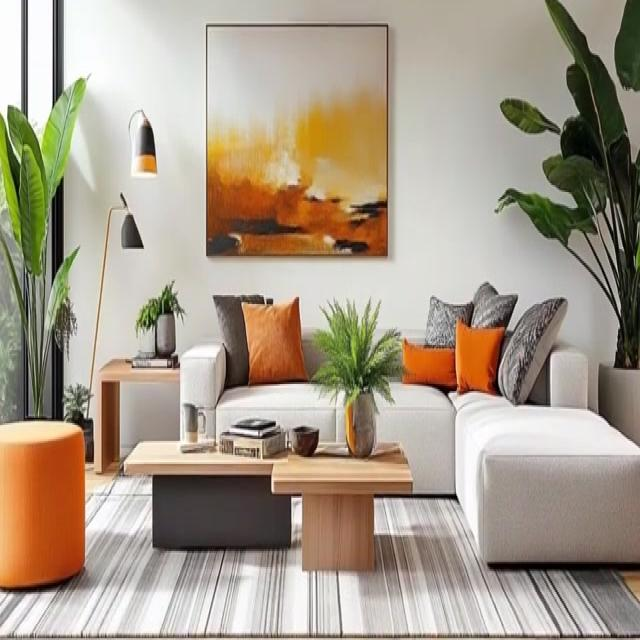obstacle: (179, 325, 639, 567), (128, 435, 295, 551), (270, 441, 413, 572)
